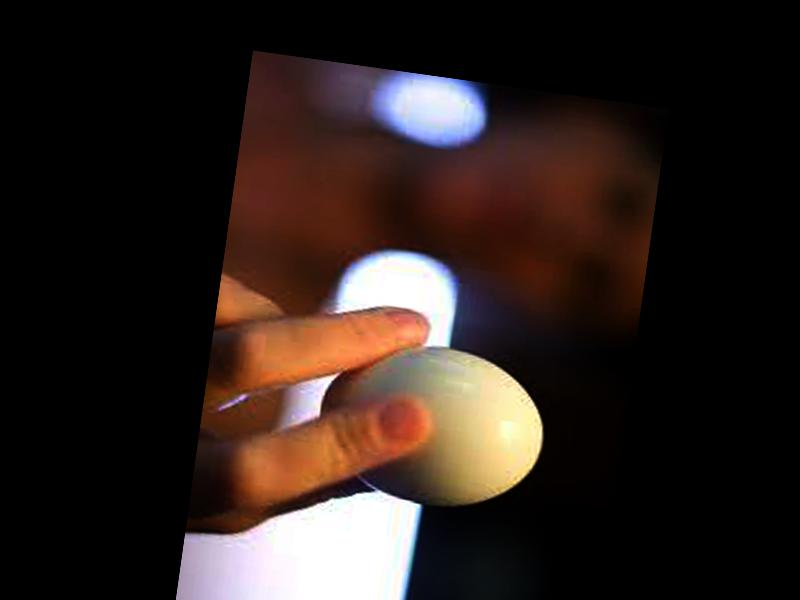Eggs: (309, 328, 554, 517)
